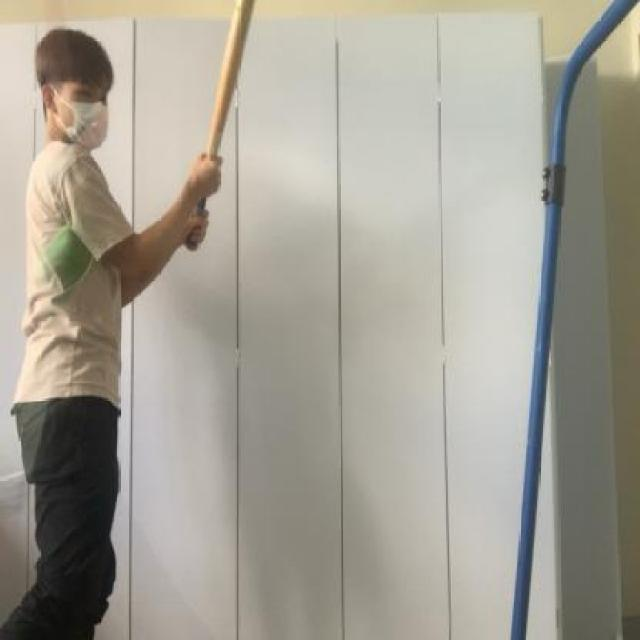baseball: (37, 217, 94, 283)
